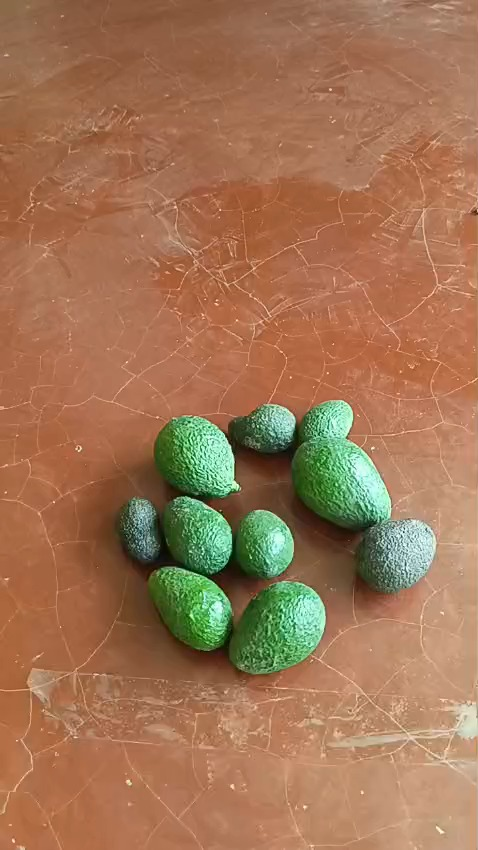Primera: (291, 437, 392, 530), (228, 581, 325, 673), (154, 415, 240, 498)
Segunda: (147, 566, 233, 650), (355, 518, 436, 593), (160, 496, 234, 575)
Tercera: (235, 508, 295, 578), (229, 404, 297, 454), (115, 496, 161, 563), (296, 399, 354, 446)
